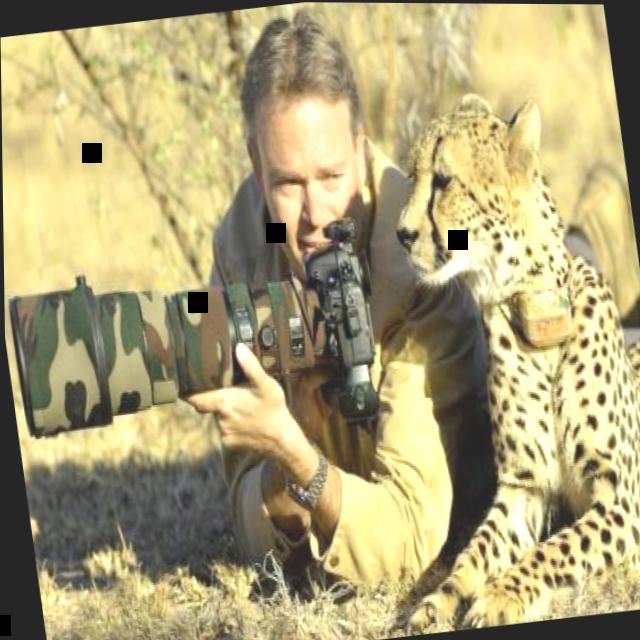Fall-Detected: (99, 1, 535, 640)
